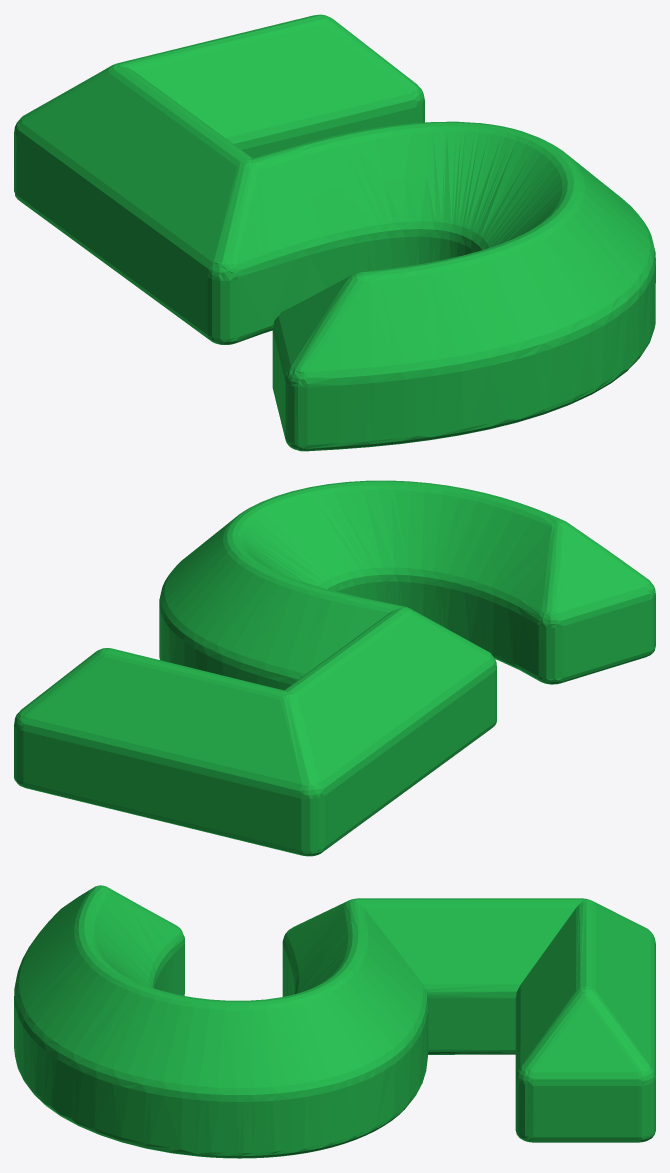
3 renders of one model, top to bottom at view 1: azimuth 30°, elevation 25°; view 2: azimuth 150°, elevation 25°; view 3: azimuth 270°, elevation 25°, orthographic. The views are drawn at different scales.
Bounding box in the file's own units: 0.0169 × 0.00541 × 0.0246.
